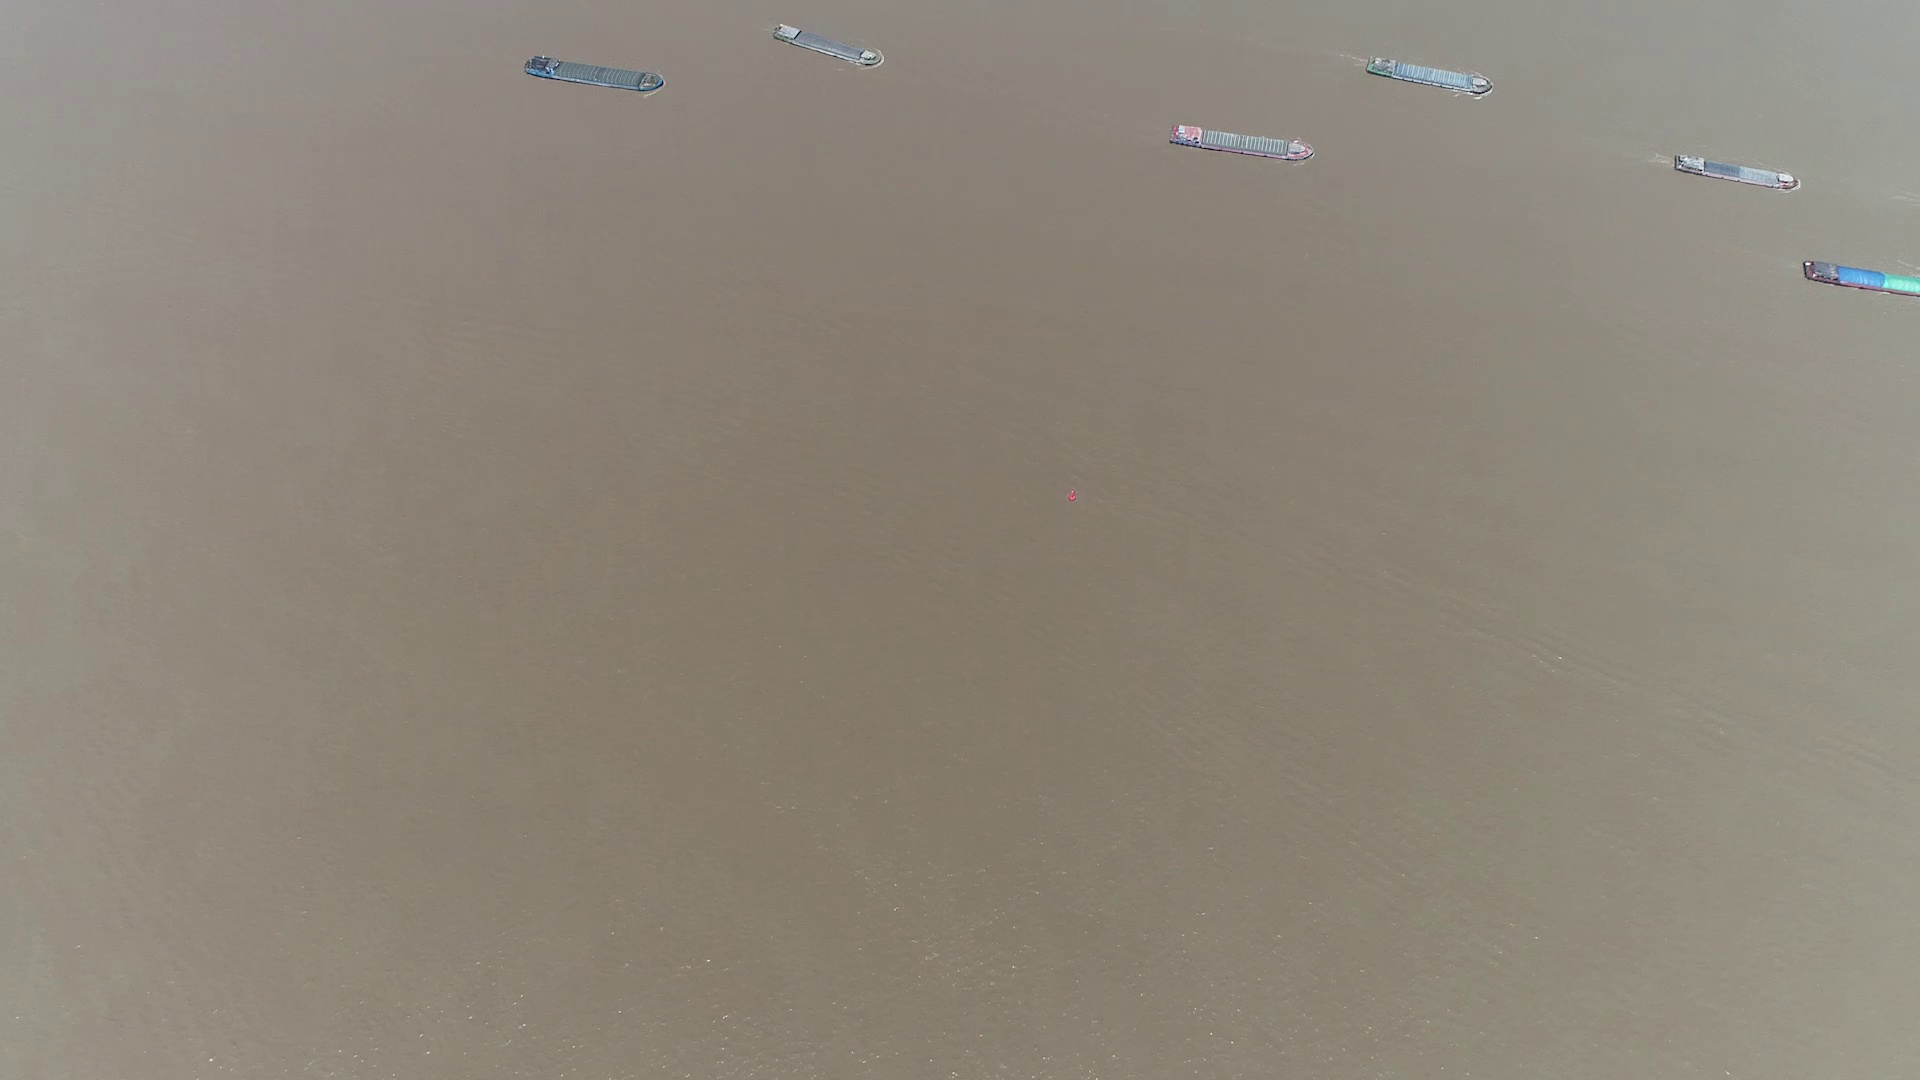ship: (1168, 123, 1315, 162), (524, 55, 663, 94), (1365, 57, 1495, 98), (771, 22, 884, 69), (1803, 257, 1920, 299), (1672, 153, 1797, 189)
